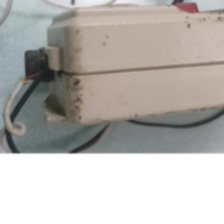three_eye_plug: (14, 0, 224, 134)
